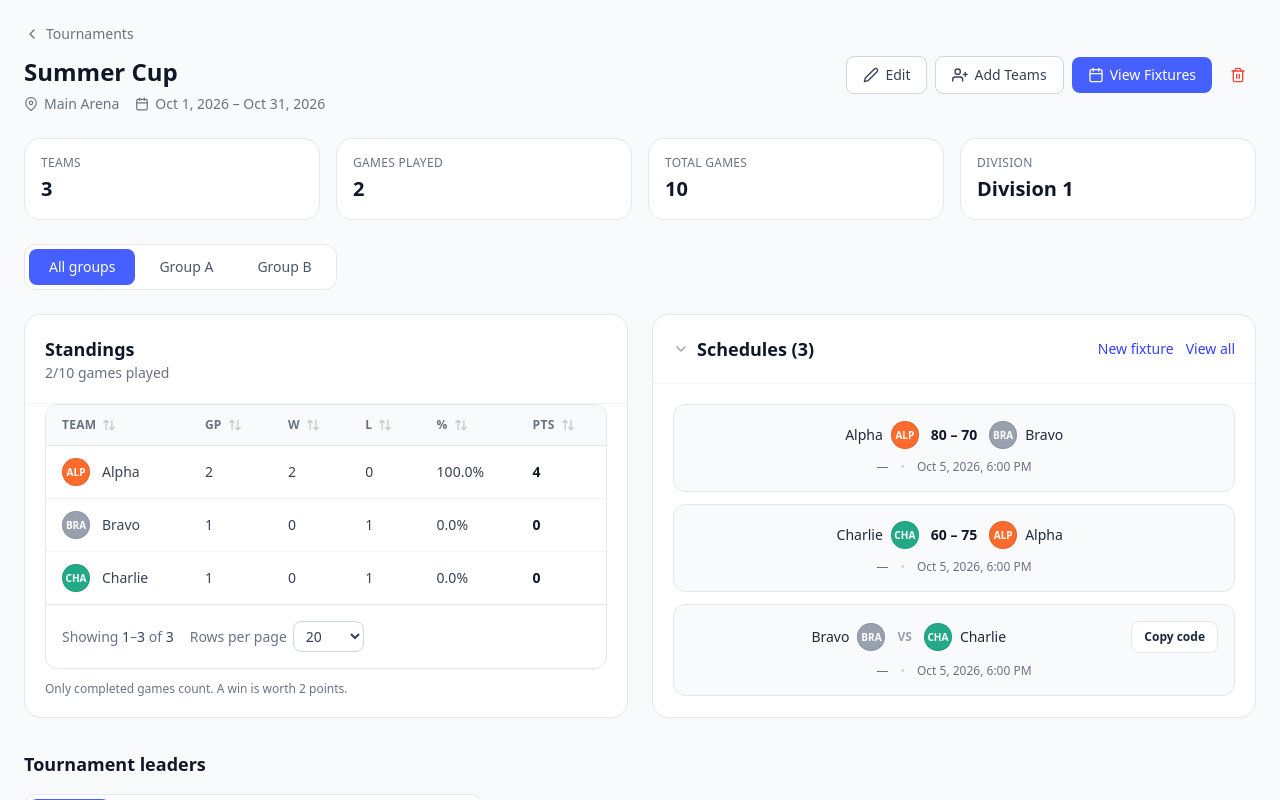
Tournament detail: header and quick stats › offers the full format and officials, not the handful of fields the old inline form had
Click the button "Edit".
click(887, 75)  # box top-left (846, 56), bottom-right (928, 94)
(page scrolled)
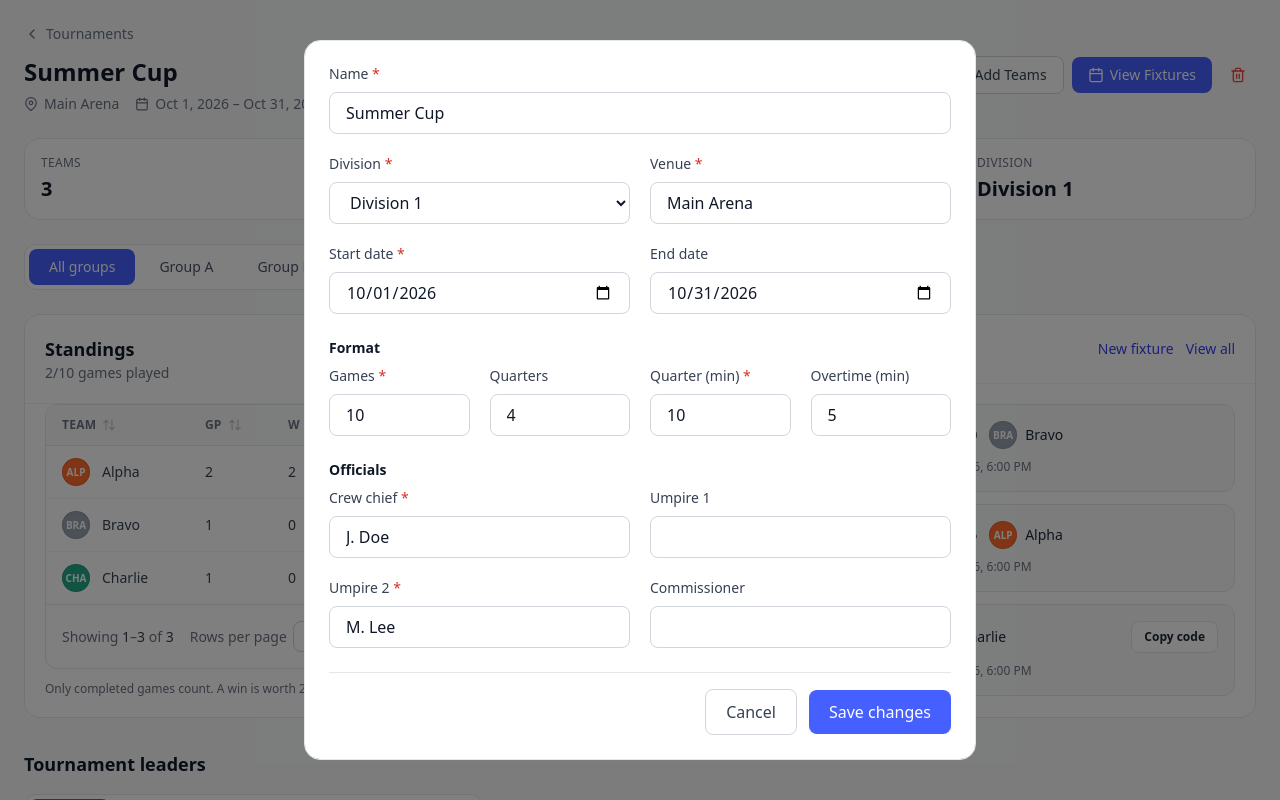
Check: the dropdown labelled "Division *" is shown, box top-left (329, 182), bottom-right (630, 224)
Check: the field labelled "Quarter (min) *" is shown, box top-left (650, 394), bottom-right (790, 436)
Check: the field labelled "Overtime (min)" is shown, box top-left (810, 394), bottom-right (951, 436)
